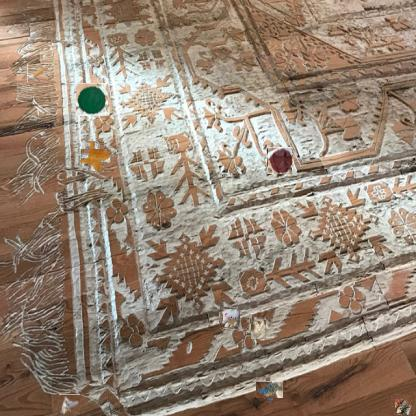dirty: (76, 84, 109, 116), (258, 378, 281, 401), (392, 394, 414, 416), (58, 394, 80, 415), (219, 308, 240, 328), (249, 318, 268, 338), (27, 64, 48, 82)
liquid: (266, 147, 293, 174), (84, 145, 108, 168)
